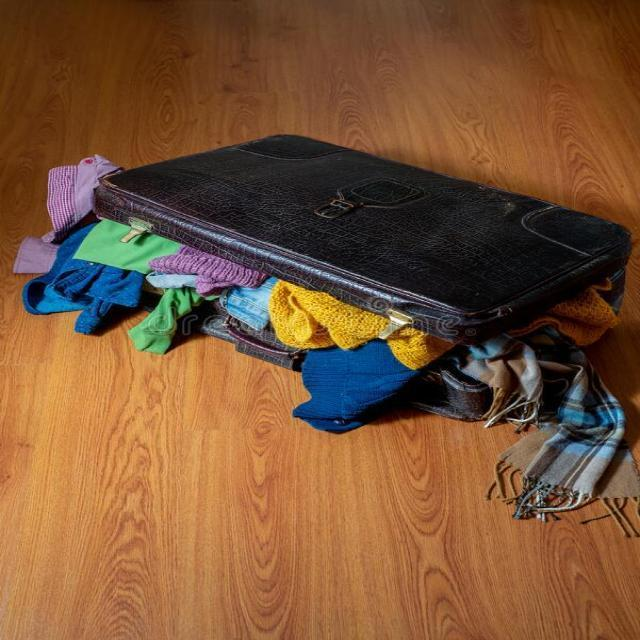clothes: (86, 155, 610, 502)
